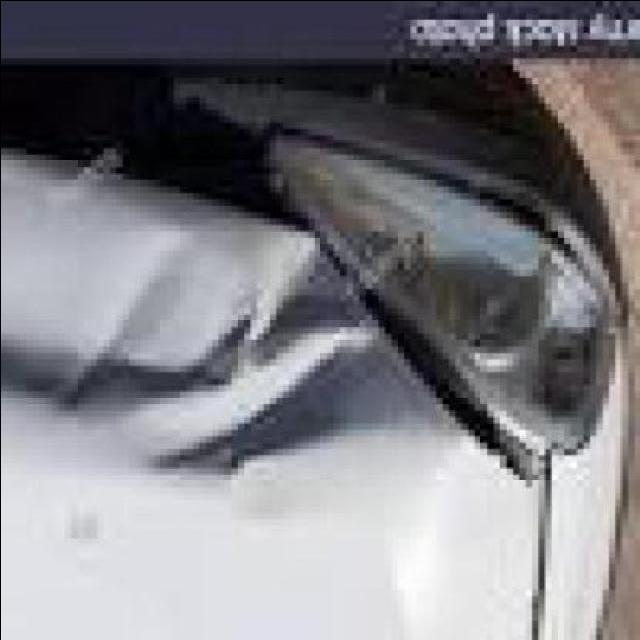bonnet-dent: (6, 173, 569, 640)
